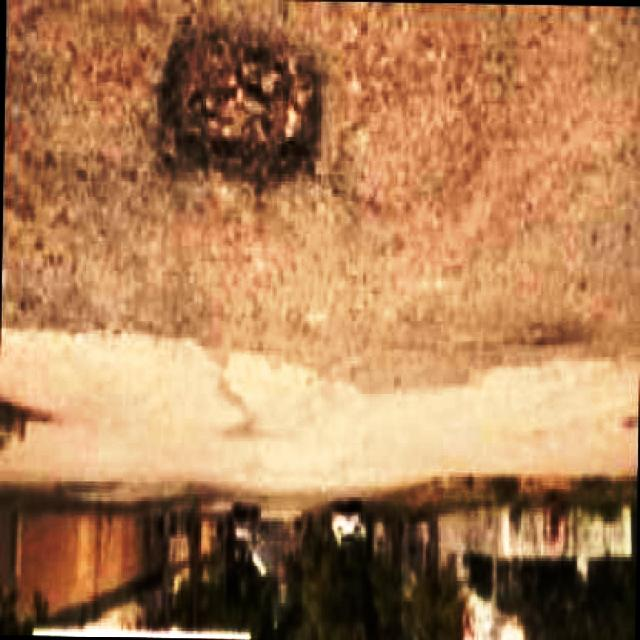pothole: (149, 16, 354, 212)
